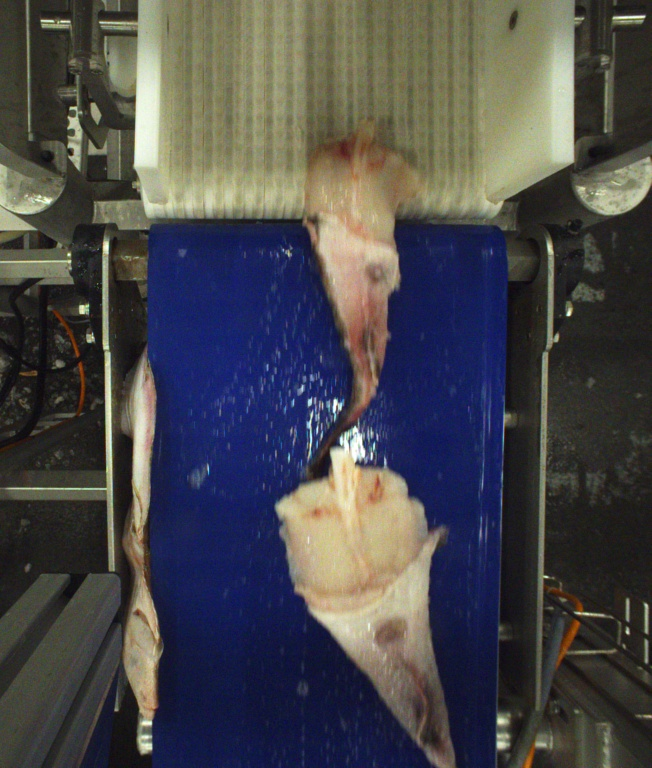ANF: (302, 129, 413, 488)
